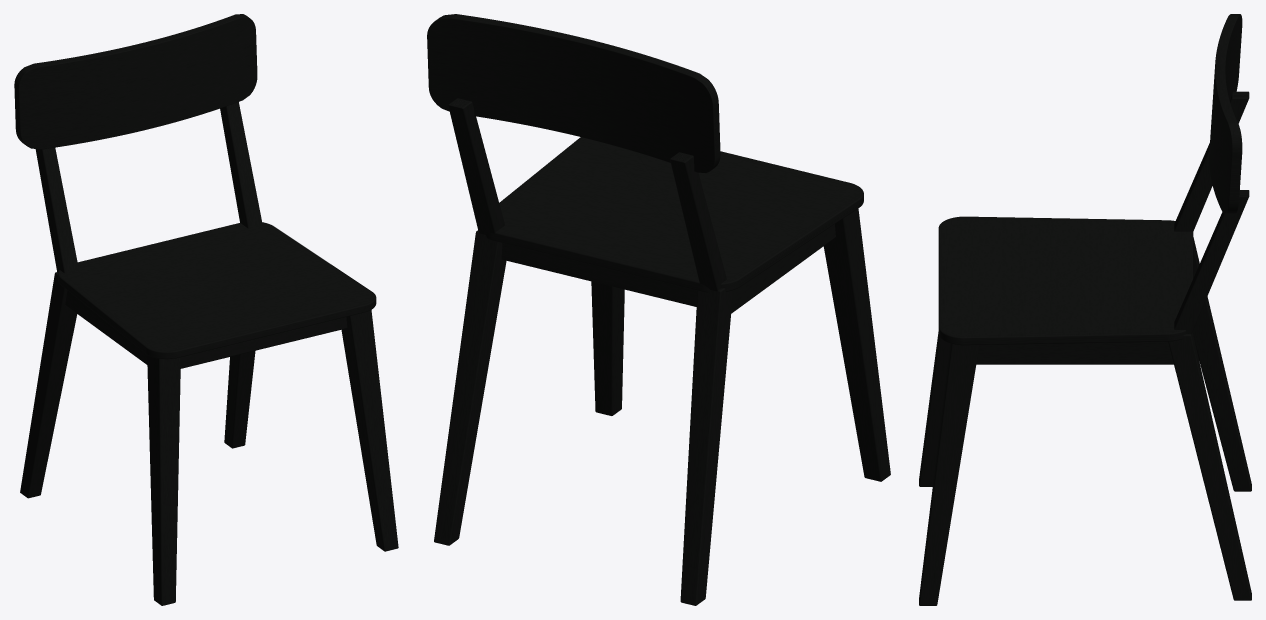
Rendered from black_chair.glb.
3 views of the same model, side by side, from view 1: azimuth 30°, elevation 25°; view 2: azimuth 150°, elevation 25°; view 3: azimuth 270°, elevation 25° (orthographic). The views are drawn at different scales.
Parts seen in each view (by area): view 1: Thin_rounded_wood_seat, Curved_horizontal_grain_backrest, Left_front_leg, Right_front_leg, Left_rear_leg, Left_back_upright, Right_back_upright, Right_rear_leg, Front_apron, Left_side_apron; view 2: Thin_rounded_wood_seat, Curved_horizontal_grain_backrest, Left_rear_leg, Right_rear_leg, Left_front_leg, Right_front_leg, Right_back_upright, Left_back_upright, Rear_apron, Left_side_apron; view 3: Thin_rounded_wood_seat, Right_front_leg, Right_rear_leg, Curved_horizontal_grain_backrest, Right_side_apron, Left_rear_leg, Right_back_upright, Left_front_leg, Left_back_upright.
Part boxes in pixels (x1,y1,x2,y2): Thin_rounded_wood_seat: (58, 222, 376, 359); Curved_horizontal_grain_backrest: (14, 14, 257, 149); Left_front_leg: (147, 355, 180, 605); Right_front_leg: (341, 310, 398, 551); Left_rear_leg: (20, 272, 77, 498); Left_back_upright: (35, 147, 78, 273); Right_back_upright: (220, 102, 262, 228); Right_rear_leg: (224, 350, 255, 448); Front_apron: (180, 317, 347, 368); Left_side_apron: (65, 290, 147, 364); Thin_rounded_wood_seat: (486, 137, 863, 292); Curved_horizontal_grain_backrest: (427, 14, 720, 173); Left_rear_leg: (680, 288, 733, 605); Right_rear_leg: (434, 230, 506, 545); Left_front_leg: (823, 208, 890, 481); Right_front_leg: (591, 281, 624, 415); Right_back_upright: (448, 98, 504, 234); Left_back_upright: (670, 152, 726, 291); Rear_apron: (501, 243, 697, 306); Left_side_apron: (731, 224, 835, 313); Thin_rounded_wood_seat: (938, 216, 1193, 345); Right_front_leg: (919, 343, 979, 605); Right_rear_leg: (1168, 332, 1251, 600); Curved_horizontal_grain_backrest: (1209, 14, 1242, 214); Right_side_apron: (976, 341, 1173, 364); Left_rear_leg: (1192, 237, 1251, 491); Right_back_upright: (1174, 190, 1249, 334); Left_front_leg: (919, 332, 950, 486); Left_back_upright: (1174, 91, 1249, 231).
Bounding box in the file's own units: 0.46 × 0.8 × 0.51.
1 material, 1 textured.
